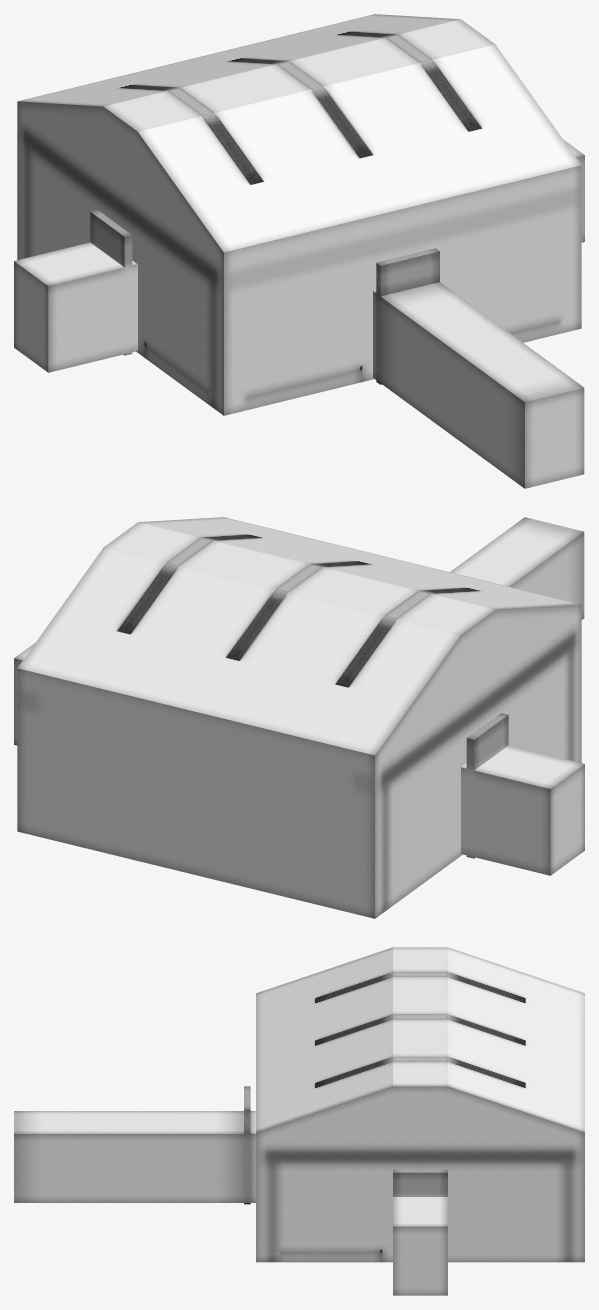
The model's file is Arena1.fbx.
3 renders of one model, top to bottom at view 1: azimuth 30°, elevation 25°; view 2: azimuth 150°, elevation 25°; view 3: azimuth 270°, elevation 25°, orthographic. The views are drawn at different scales.
Parts seen in each view (by area): view 1: Cube; view 2: Cube; view 3: Cube.
Part boxes in pixels (x1,y1,x2,y2): Cube: (14, 14, 584, 488); Cube: (14, 517, 584, 918); Cube: (14, 947, 584, 1295).
Size of the model in its own units: 53133 by 20935 by 61478.
